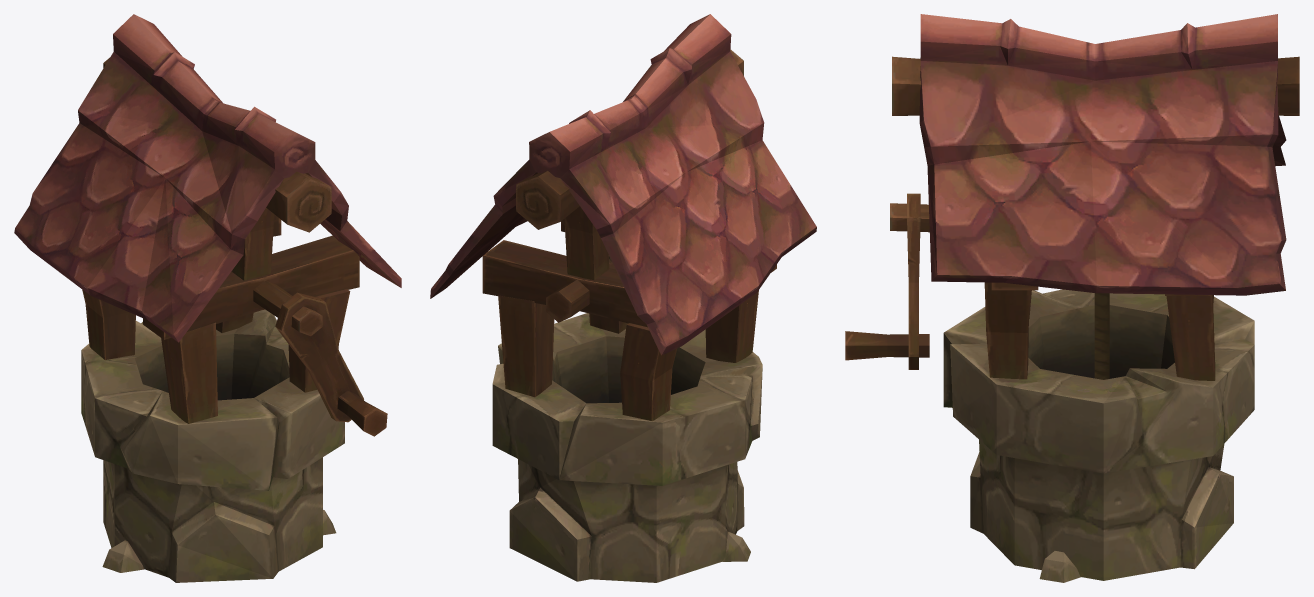
The model's file is well_01.fbx.
3 views of the same model, side by side, from view 1: azimuth 30°, elevation 25°; view 2: azimuth 150°, elevation 25°; view 3: azimuth 270°, elevation 25° (orthographic). The views are drawn at different scales.
Visible parts, largest first — view 1: obj0.376; view 2: obj0.376; view 3: obj0.376.
Boxes of the visible parts, left/top/right/bottom form: obj0.376: left=14, top=14, right=401, bottom=582; obj0.376: left=430, top=14, right=816, bottom=582; obj0.376: left=845, top=14, right=1299, bottom=582.
Size of the model in its own units: 2.82 by 4.89 by 3.92.
